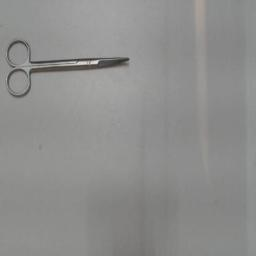Curved Mayo Scissors: (4, 37, 132, 101)
